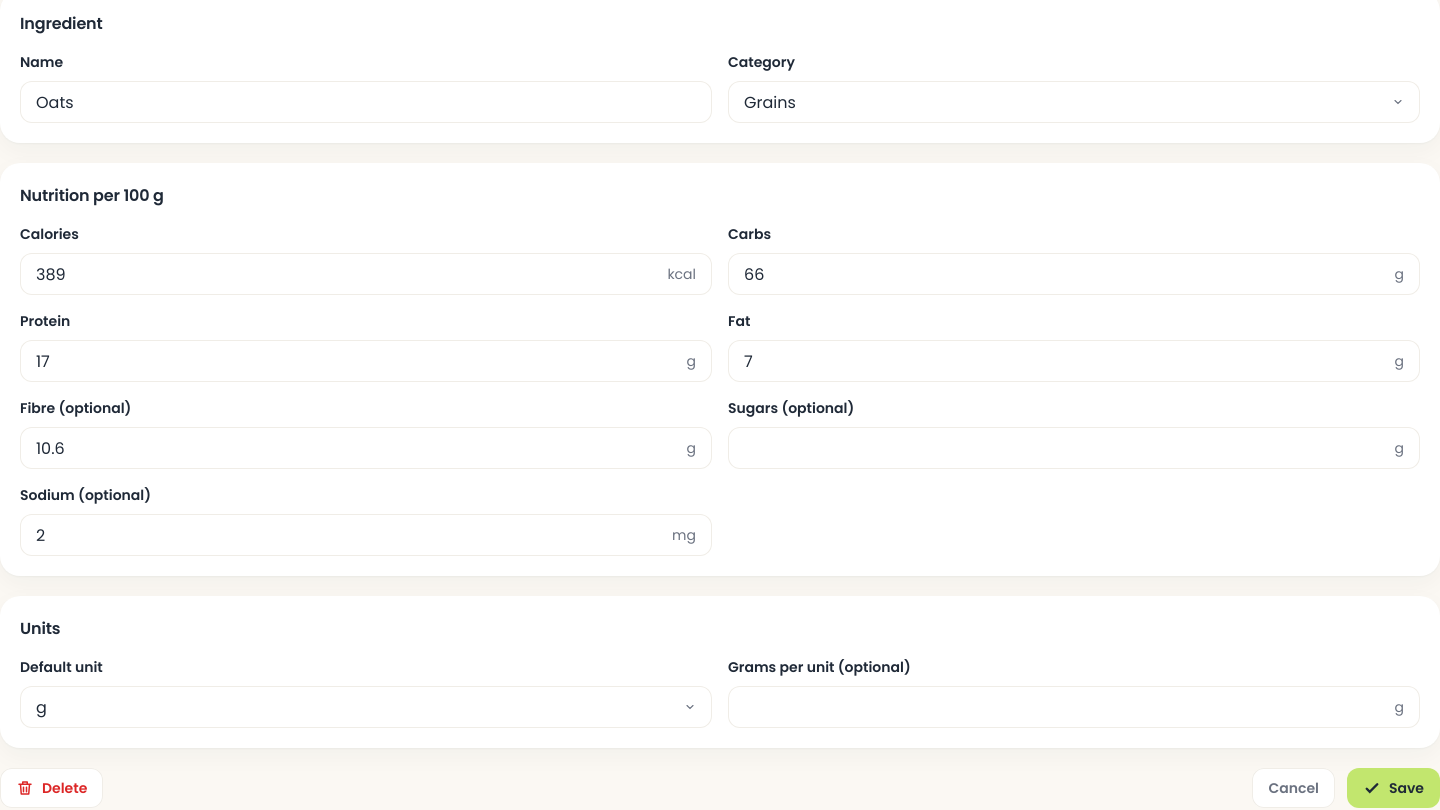
Test: IngredientsPage /ingredients/:id (edit) › shows a generic delete error on any other failure
(page scrolled)
Click the button "Delete" at (52, 788), box left=0, top=768, right=103, bottom=808
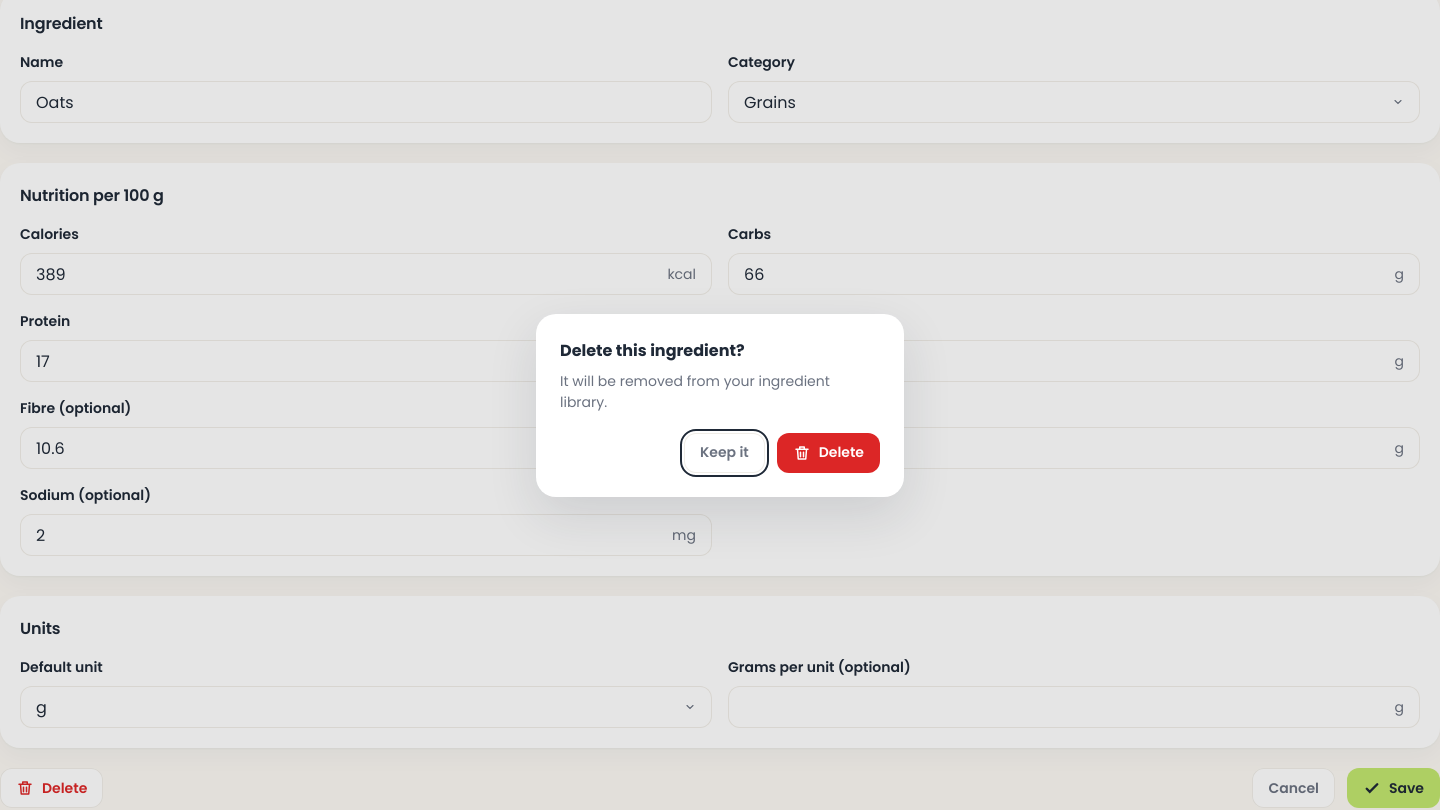
Click the button "Delete" at (828, 452), box left=777, top=432, right=880, bottom=472
(page scrolled)
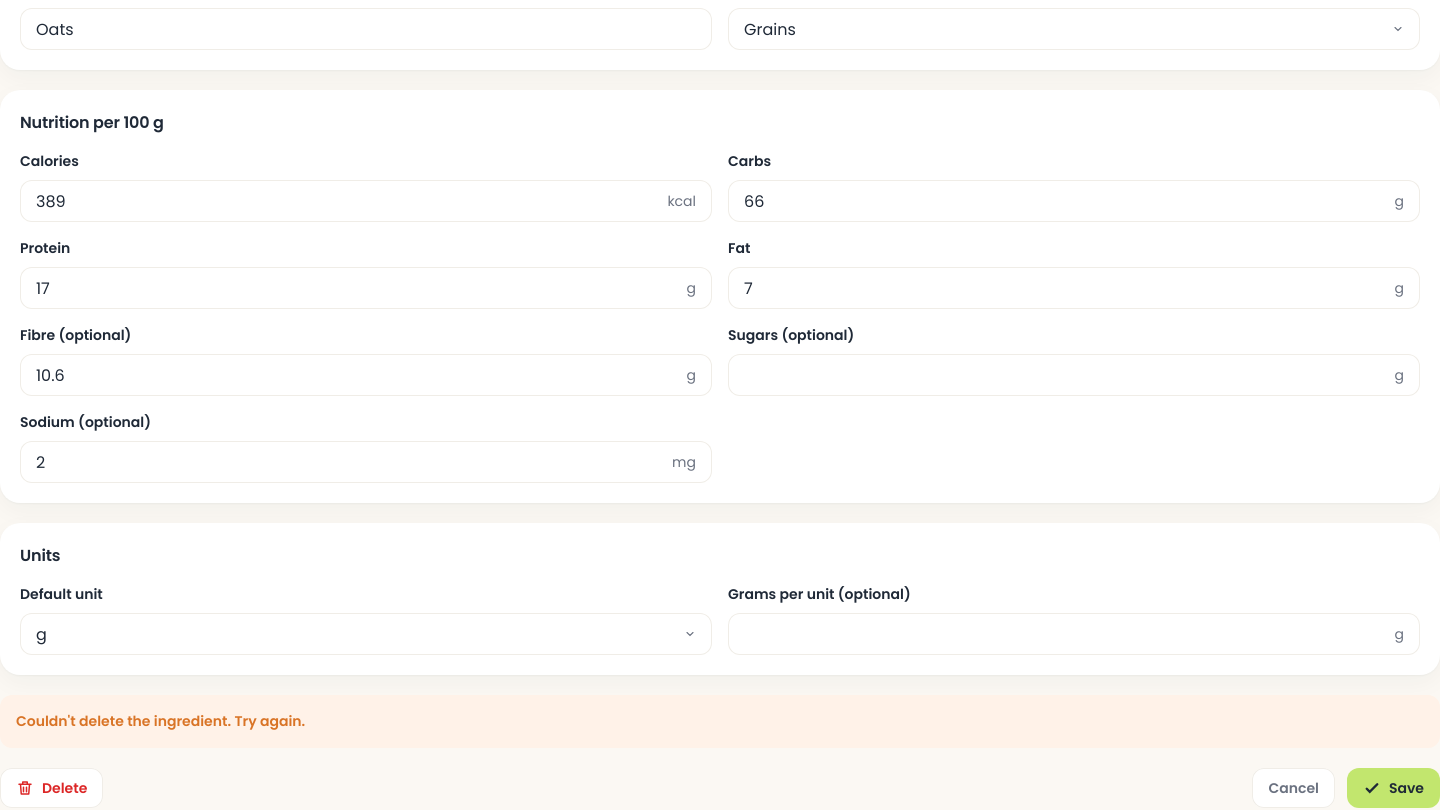
expect the message reads "Couldn't delete the ingredient. Try again.": met, box left=16, top=711, right=305, bottom=731
